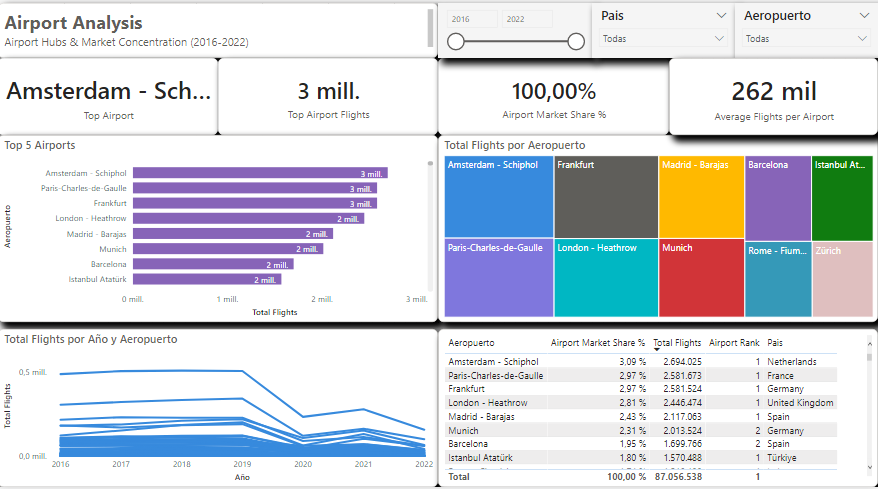

This screenshot's page, from the dashboard's own definition file:
{"tool":"powerbi","page":{"name":"Airport Analysis","canvas":[1280,720],"ordinal":2},"visuals":[{"type":"textbox","box":[0,16,640,80],"z":0},{"type":"card","fields":{"Values":["Medidas.Top Airport"]},"box":[0,96,320,112],"z":1000},{"type":"card","fields":{"Values":["Medidas.Top Airport Flights"]},"box":[320,96,320,112],"z":2000},{"type":"card","fields":{"Values":["Medidas.Airport Market Share %"]},"box":[640,96,336,112],"z":3000},{"type":"barChart","title":"Top 5 Airports","fields":{"Y":["Medidas.Total Flights"],"Category":["Dim_Aeropuerto.Aeropuerto"]},"box":[0,208,640,272],"z":4000},{"type":"treemap","fields":{"Group":["Dim_Aeropuerto.Aeropuerto"],"Values":["Medidas.Total Flights"]},"box":[640,208,640,272],"z":5000},{"type":"lineChart","fields":{"Category":["Dim_Fecha.Año"],"Y":["Medidas.Total Flights"],"Series":["Dim_Aeropuerto.Aeropuerto"]},"box":[0,490,640,230],"z":6000},{"type":"tableEx","fields":{"Values":["Dim_Aeropuerto.Aeropuerto","Medidas.Airport Market Share %","Medidas.Total Flights","Medidas.Airport Rank","Dim_Aeropuerto.Pais"]},"box":[640,490,640,230],"z":7000},{"type":"slicer","fields":{"Values":["Dim_Fecha.Año"]},"box":[640,16,224,80],"z":8000},{"type":"slicer","fields":{"Values":["Dim_Pais.Pais"]},"box":[864,16,208,80],"z":9000},{"type":"slicer","fields":{"Values":["Dim_Aeropuerto.Aeropuerto"]},"box":[1072,16,208,80],"z":10000},{"type":"card","fields":{"Values":["Medidas.Average Flights per Airport"]},"box":[976,96,304,112],"z":11000}]}

Visuals, with their boxes in screenshot pixels (x1, y1, x2, y2), scaled from the page's 1280x720 canvas onto the 878x489 screenshot:
textbox: (left=0, top=11, right=439, bottom=65)
card - Medidas.Top Airport: (left=0, top=65, right=220, bottom=141)
card - Medidas.Top Airport Flights: (left=220, top=65, right=439, bottom=141)
card - Medidas.Airport Market Share %: (left=439, top=65, right=669, bottom=141)
"Top 5 Airports" barChart: (left=0, top=141, right=439, bottom=326)
treemap - Dim_Aeropuerto.Aeropuerto x Medidas.Total Flights: (left=439, top=141, right=877, bottom=326)
lineChart - Dim_Fecha.Año x Medidas.Total Flights: (left=0, top=333, right=439, bottom=488)
tableEx - Dim_Aeropuerto.Aeropuerto x Medidas.Airport Market Share %: (left=439, top=333, right=877, bottom=488)
slicer - Dim_Fecha.Año: (left=439, top=11, right=593, bottom=65)
slicer - Dim_Pais.Pais: (left=593, top=11, right=735, bottom=65)
slicer - Dim_Aeropuerto.Aeropuerto: (left=735, top=11, right=877, bottom=65)
card - Medidas.Average Flights per Airport: (left=669, top=65, right=877, bottom=141)
